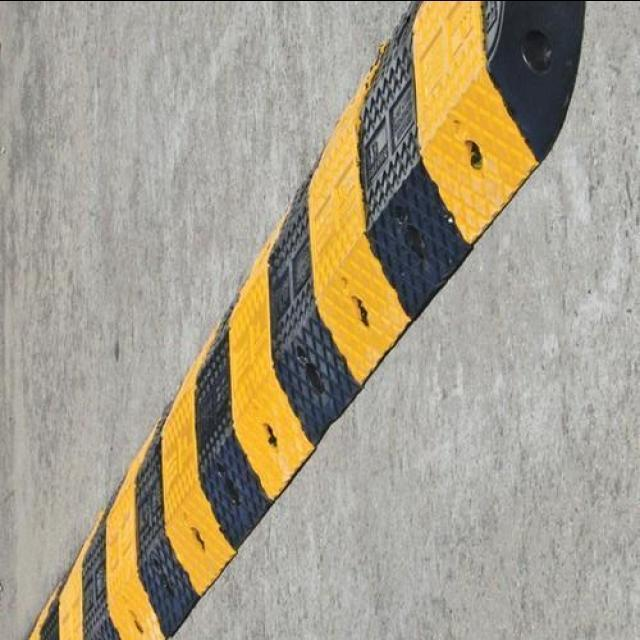speedbreaker: (16, 0, 592, 640)
